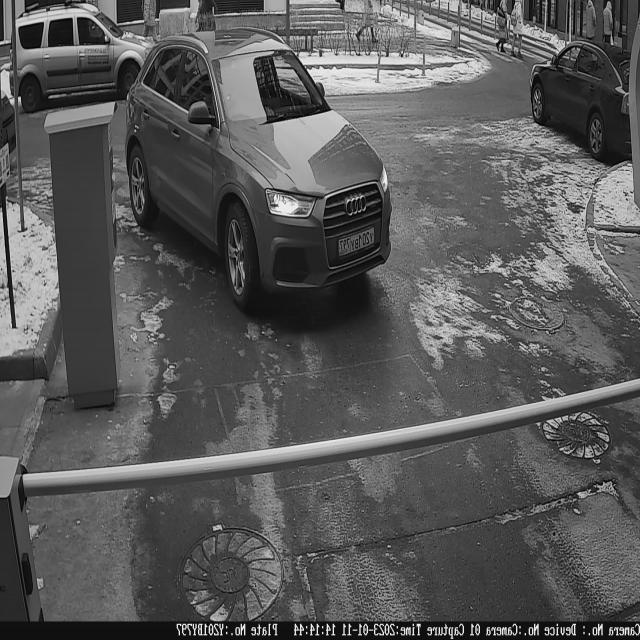car-plate-numbers: (335, 219, 379, 265)
